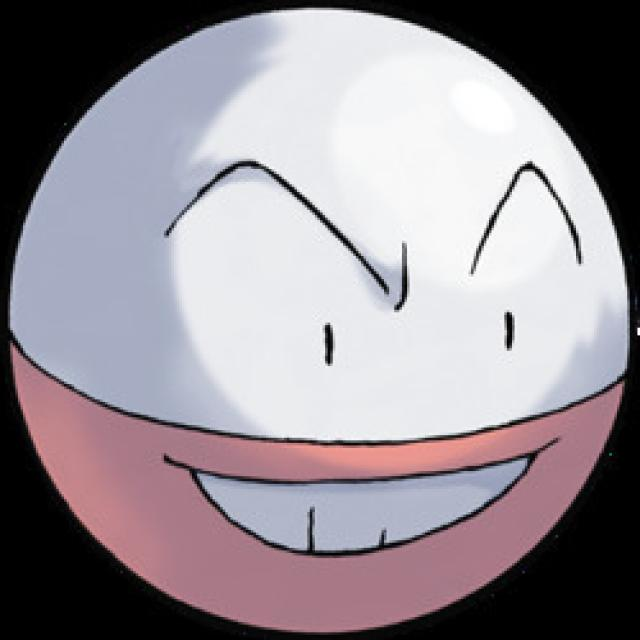Electrode: (0, 8, 632, 628)
